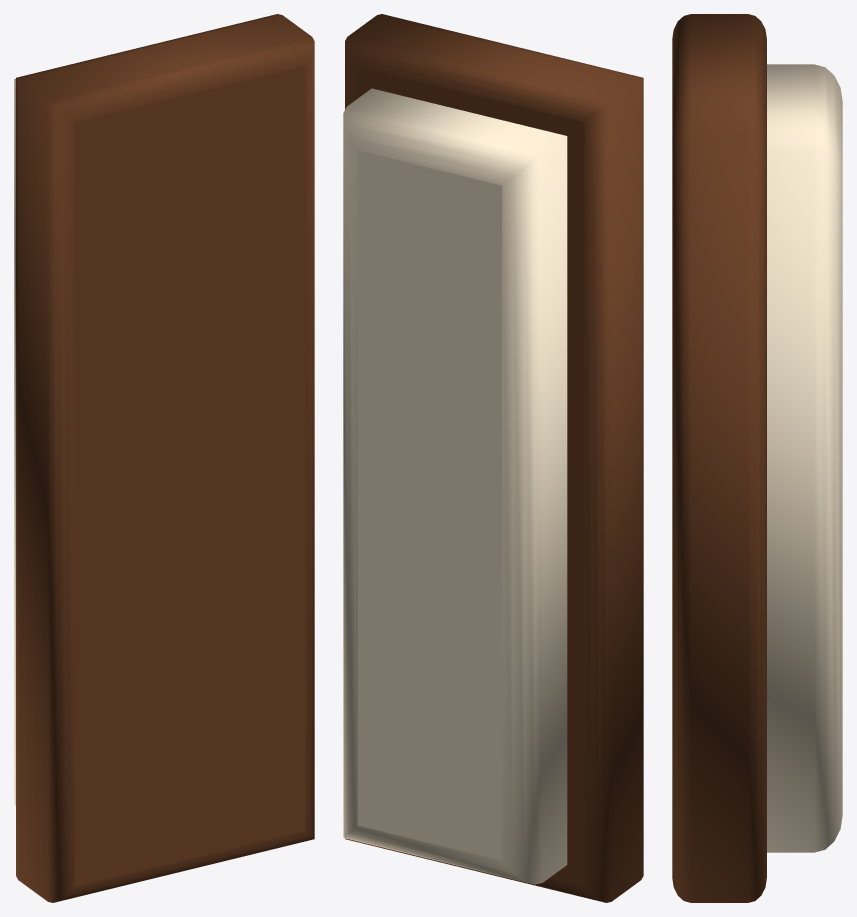
Rendered from Letter_I.fbx.
The picture shows the model from 3 angles, left to right: view 1: azimuth 30°, elevation 25°; view 2: azimuth 150°, elevation 25°; view 3: azimuth 270°, elevation 25°; orthographic projection. The views are drawn at different scales.
Visible parts, largest first — view 1: Letter_I; view 2: Letter_I; view 3: Letter_I.
Boxes of the visible parts, x1,y1,x2,y2 form: Letter_I: (14, 14, 314, 902); Letter_I: (343, 14, 643, 902); Letter_I: (672, 14, 842, 902).
Bounding box in the file's own units: 0.308 × 0.892 × 0.18.
1 material, 1 textured.
